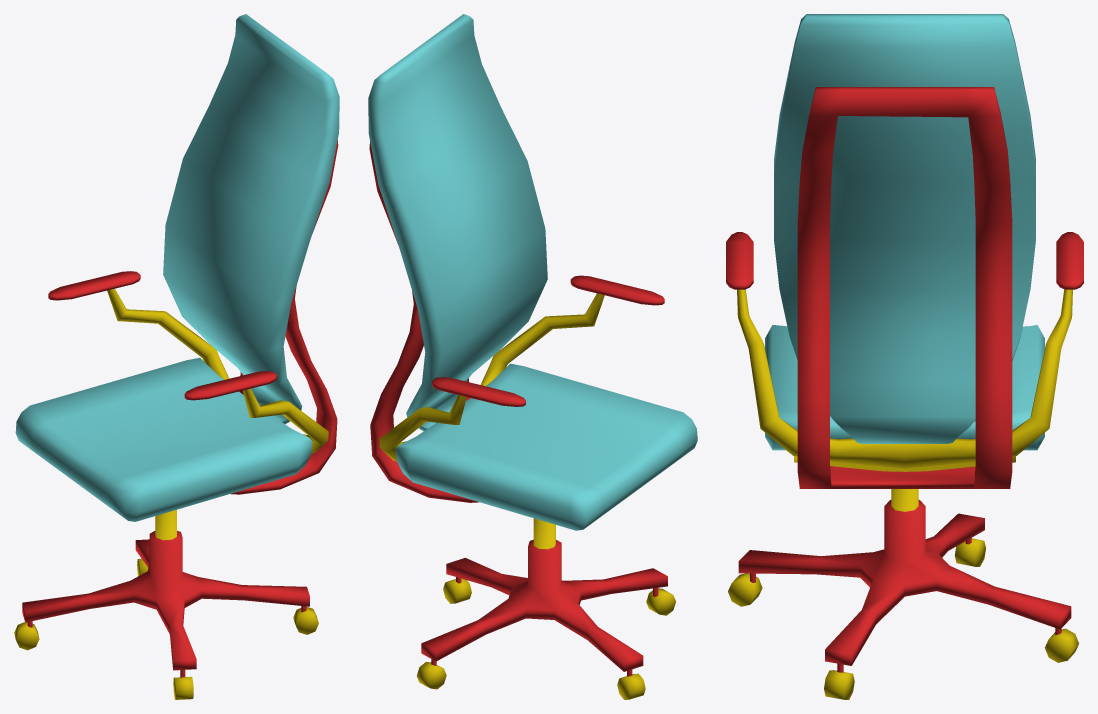
The model's file is MOD_FUR_CPU_chair_01.fbx.
3 renders of one model, left to right at view 1: azimuth 30°, elevation 25°; view 2: azimuth 150°, elevation 25°; view 3: azimuth 270°, elevation 25°, orthographic. The views are drawn at different scales.
Parts seen in each view (by area): view 1: HSHP_MOD_CPU_chair; view 2: HSHP_MOD_CPU_chair; view 3: HSHP_MOD_CPU_chair.
Boxes of the visible parts, box(x1,y1,x2,y2) form: HSHP_MOD_CPU_chair: box(14, 14, 339, 699); HSHP_MOD_CPU_chair: box(368, 14, 697, 699); HSHP_MOD_CPU_chair: box(726, 14, 1083, 699).
Bounding box in the file's own units: 0.7464 × 1.56 × 0.7391.
